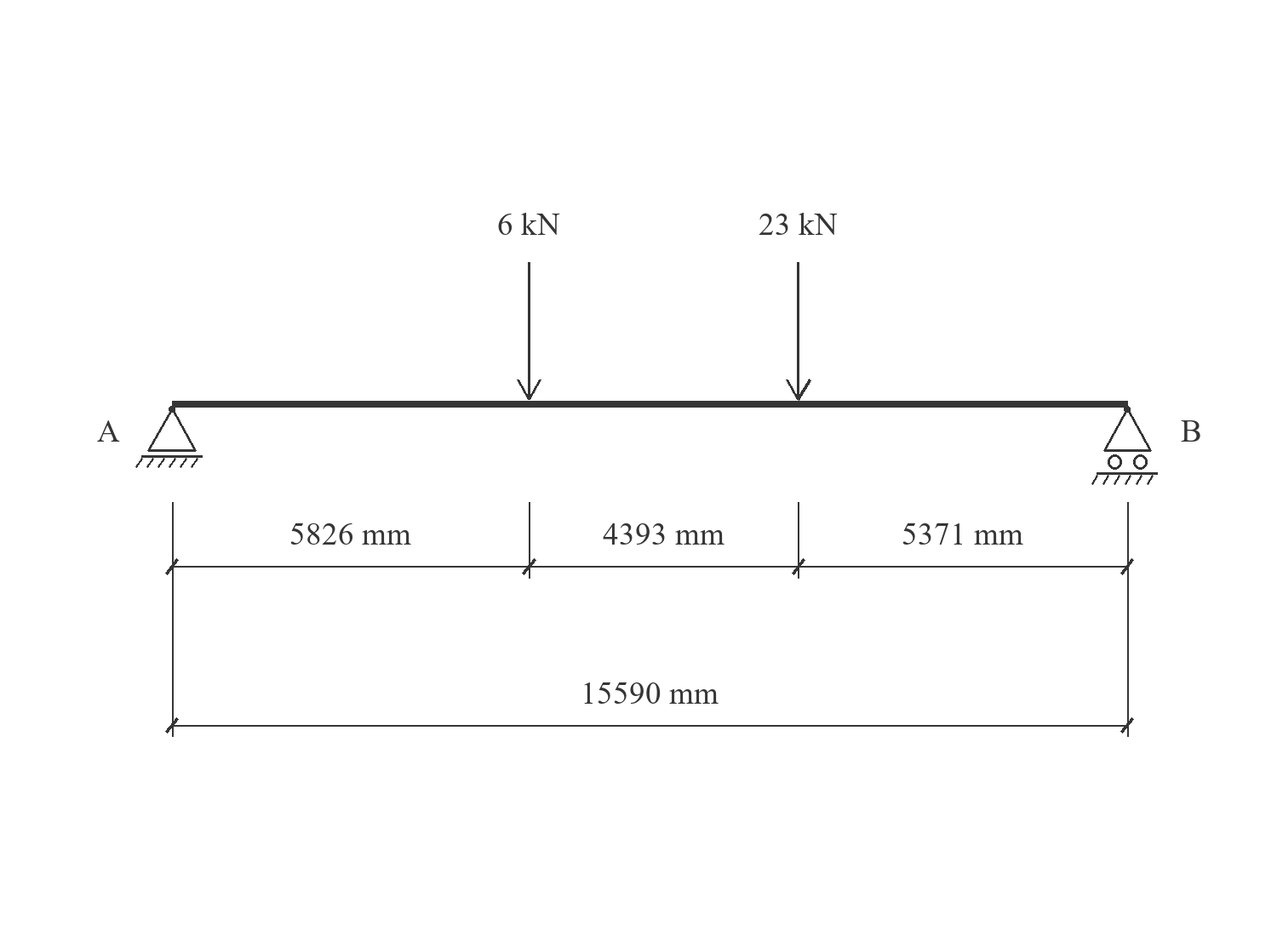pin_support: (135, 406, 203, 468)
point_load: (786, 262, 811, 401), (517, 262, 541, 400)
roller_support: (1091, 406, 1158, 485)
